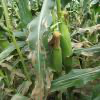Corn leaf blight: (26, 1, 53, 99)
